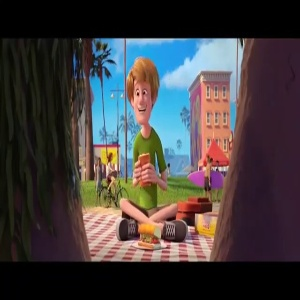Shagy: (124, 54, 162, 127)
